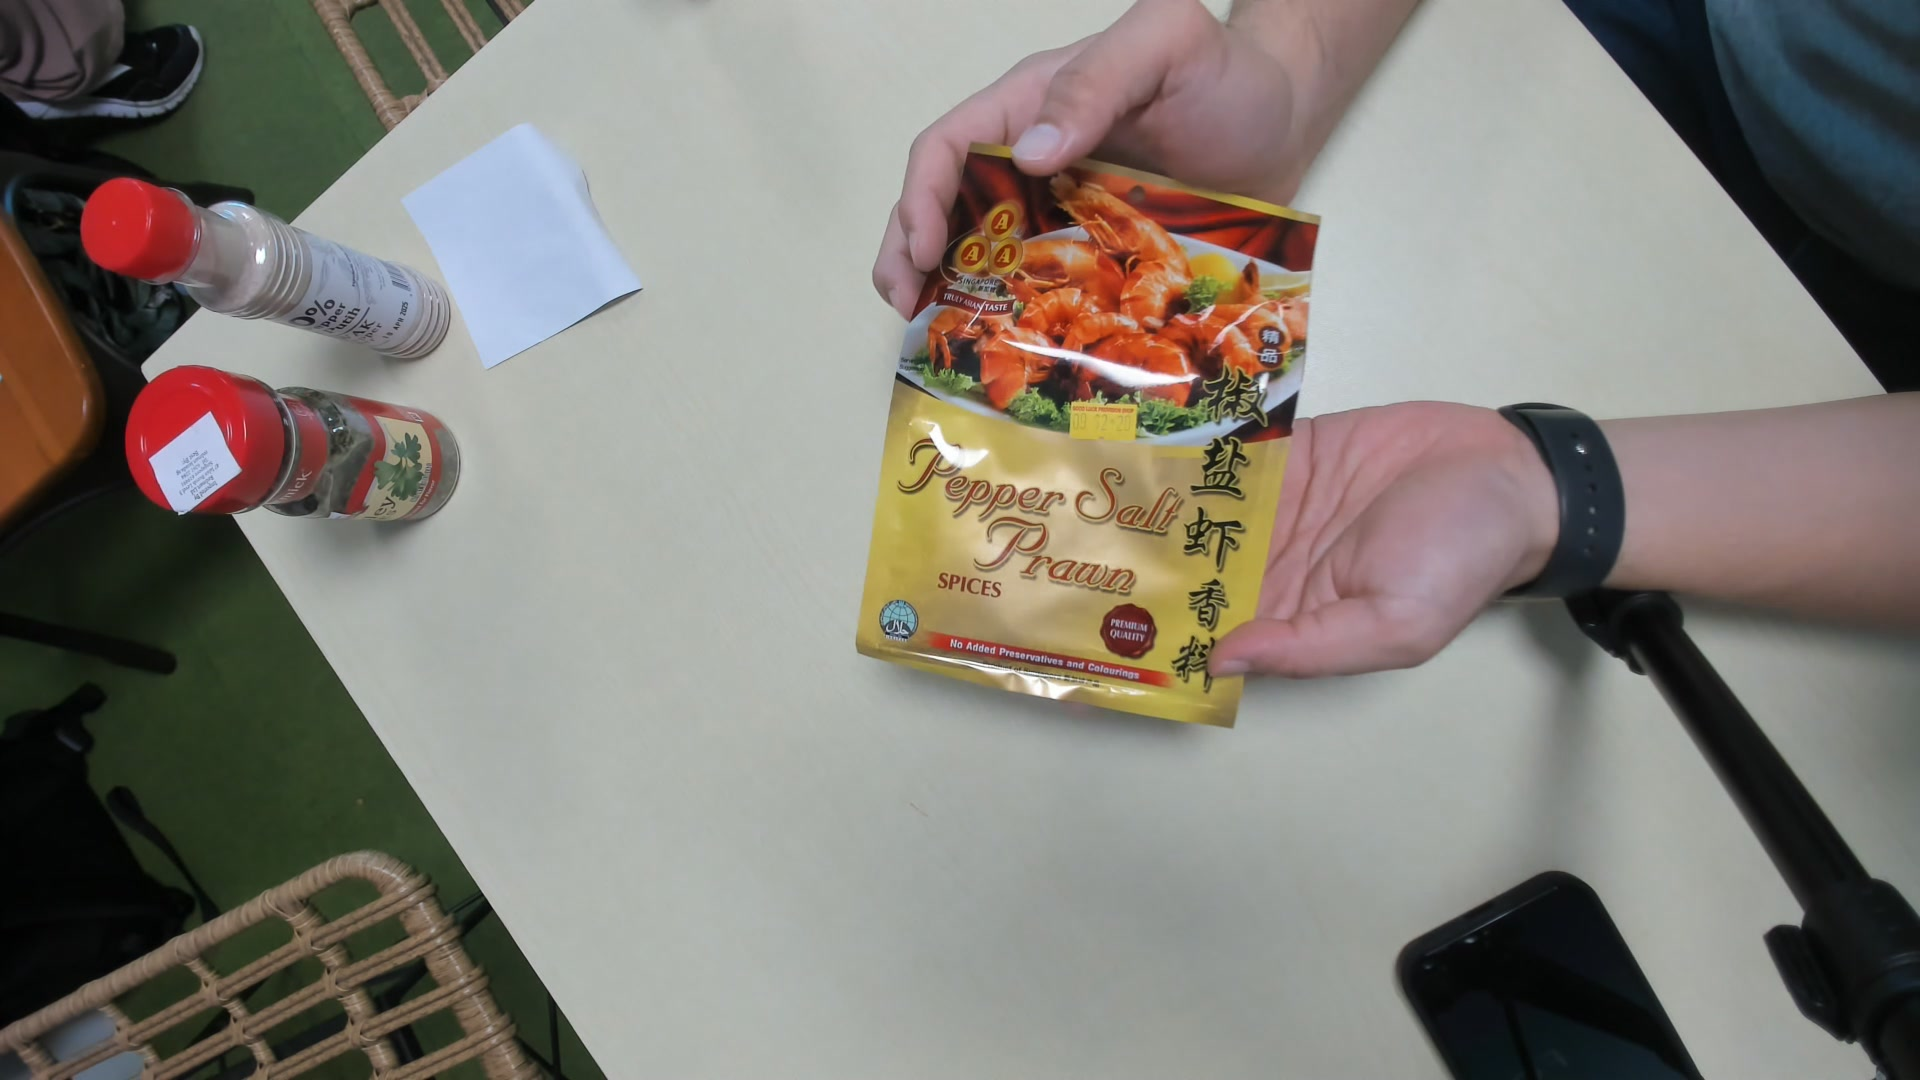HerbsSpicesPepper_400-499g_Halal_NonHealthy: (852, 140, 1309, 731)
